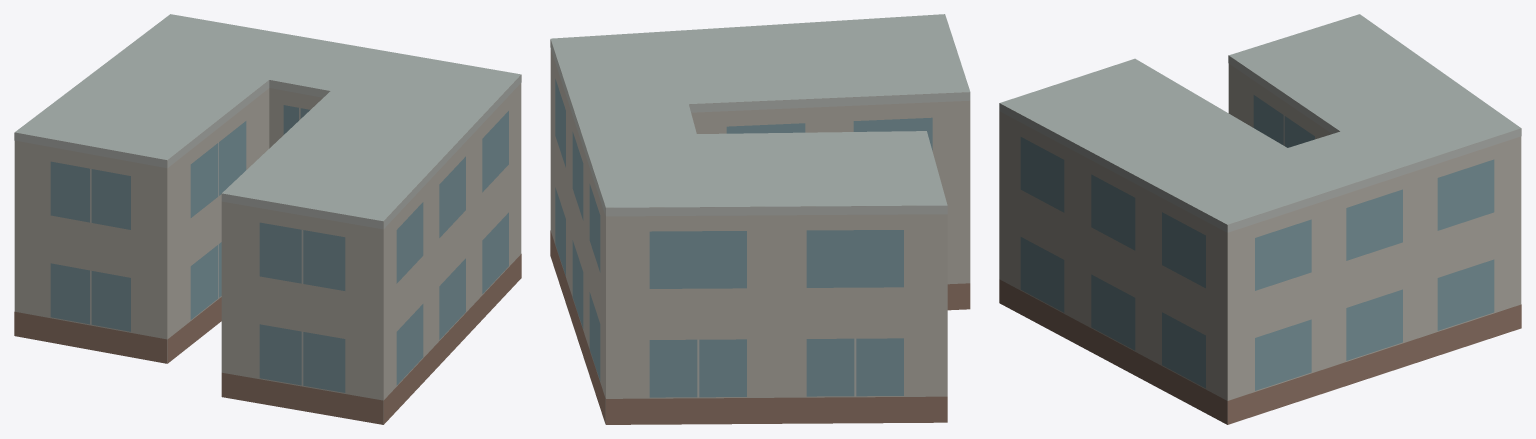
The model's file is survey-upis-32994190.glb.
3 renders of one model, left to right at view 1: azimuth 30°, elevation 25°; view 2: azimuth 150°, elevation 25°; view 3: azimuth 270°, elevation 25°, orthographic. The views are drawn at different scales.
Visible parts, largest first — view 1: survey-upis-32994190.tmp; view 2: survey-upis-32994190.tmp; view 3: survey-upis-32994190.tmp.
Part boxes in pixels (left/top/right/bottom): survey-upis-32994190.tmp: left=14, top=14, right=521, bottom=424; survey-upis-32994190.tmp: left=550, top=14, right=970, bottom=424; survey-upis-32994190.tmp: left=999, top=14, right=1521, bottom=424.
Bounding box in the file's own units: 13.79 × 6.1 × 14.44.
